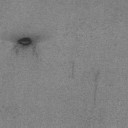iron sheet ash: (18, 37, 32, 46)
